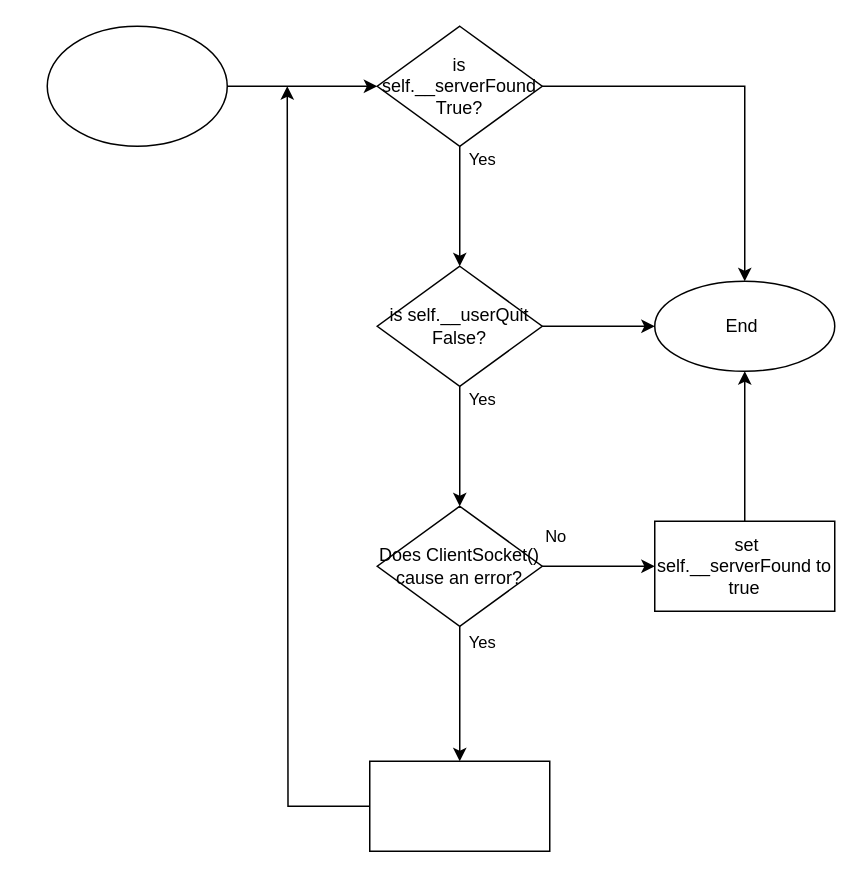
This 861x878 diagram has some shape labels left out. Here are the shapes that lost their labels. From the top down, the centre of each, then its label:
the point at 136,85: Game.__SearchForServer() called
the point at 459,805: Print "Failed to connect, trying again"
